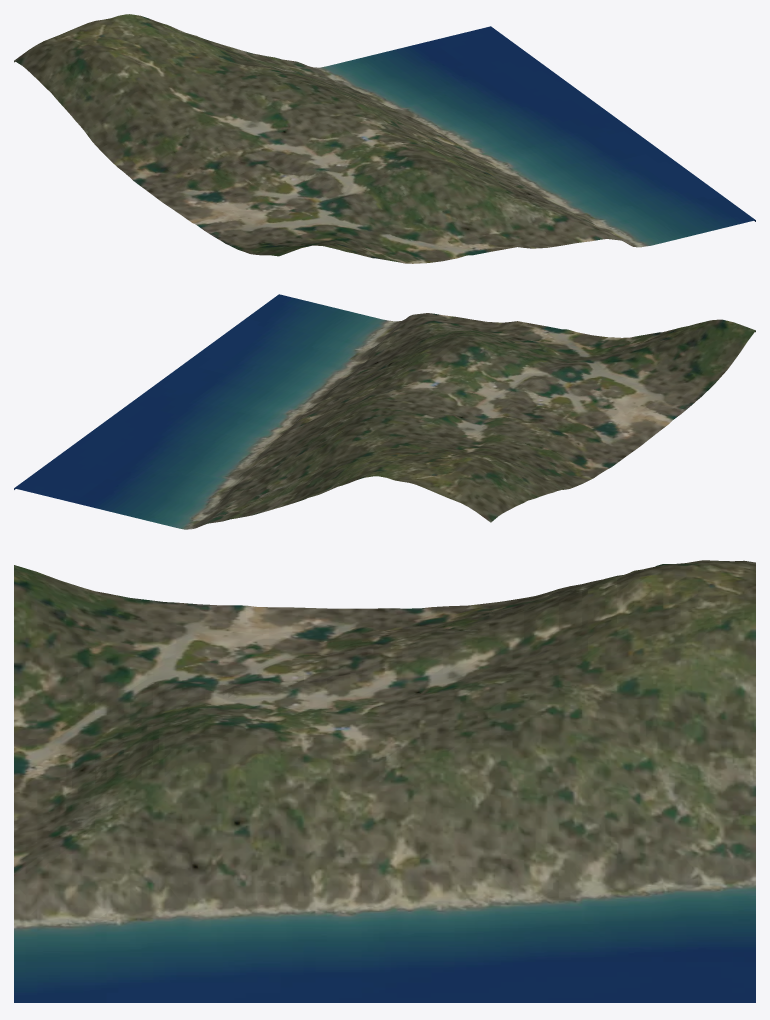
3 views of the same model, one above another, from view 1: azimuth 30°, elevation 25°; view 2: azimuth 150°, elevation 25°; view 3: azimuth 270°, elevation 25° (orthographic). The views are drawn at different scales.
Size of the model in its own units: 250 by 52.32 by 241.
Materials: 1 (1 with a texture image).
